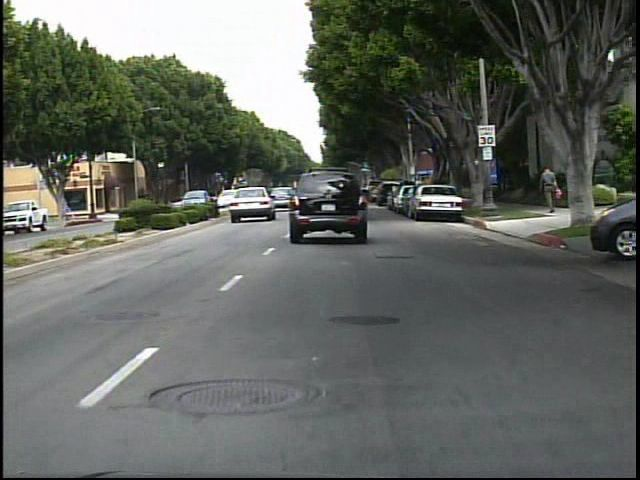person: (538, 164, 561, 218)
